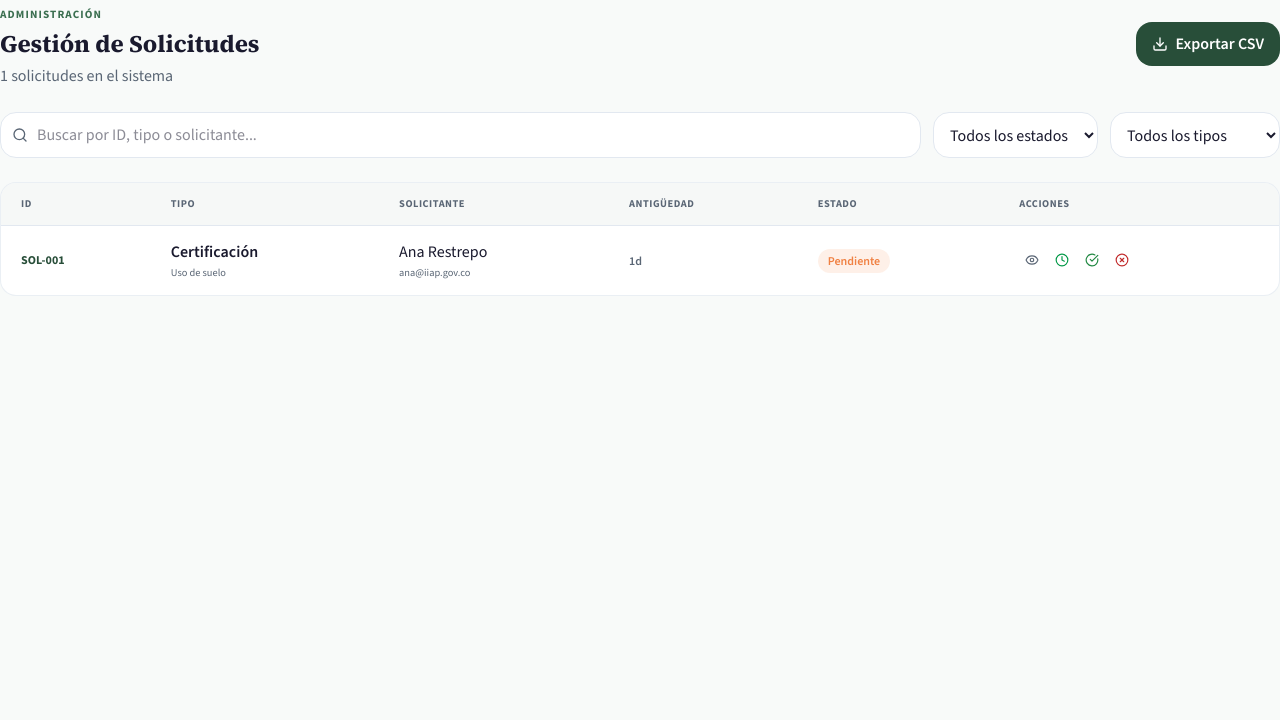
Test case: GestionSolicitudes — archivos adjuntos › sin archivos, muestra el mensaje de "sin documentos"
Click the button titled "Ver detalle".
click(1032, 260)  # box [1019,247,1045,273]
(page scrolled)
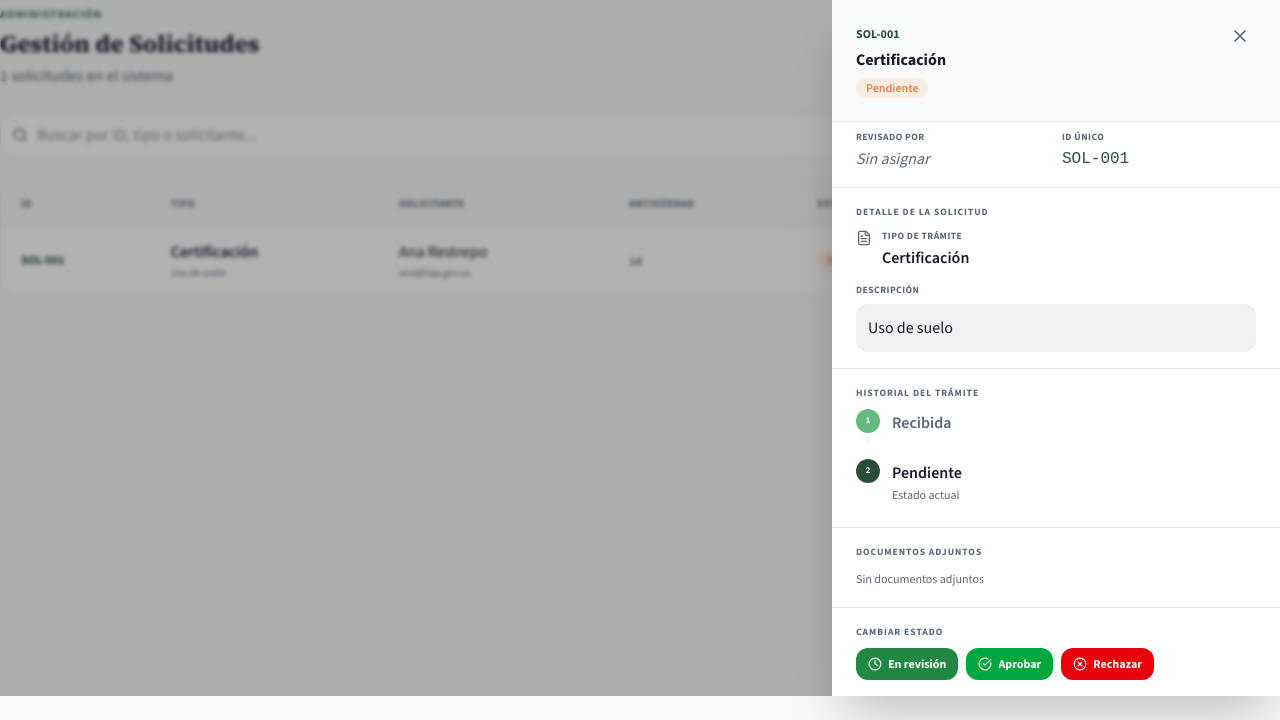
Expected: the text "Sin documentos adjuntos" is shown, [856,571,984,587]
